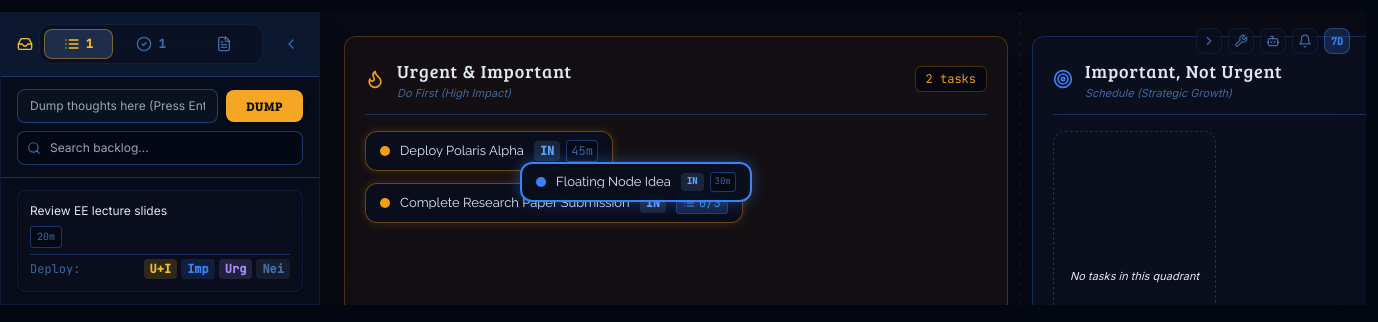
Test case: MatrixCanvasView › Canvas focused next-action pill rendering and Details Drawer actions › expanding a parent task with multiple subtasks renders ONLY 1 active child pill and the queued count button on canvas
Expected: the heading "Complete Research Paper Submission" is shown, [400, 196, 630, 209]
# Find expand button for this parent task
Click the button titled "Toggle Subtasks" at [702, 202], box [676, 192, 728, 214]
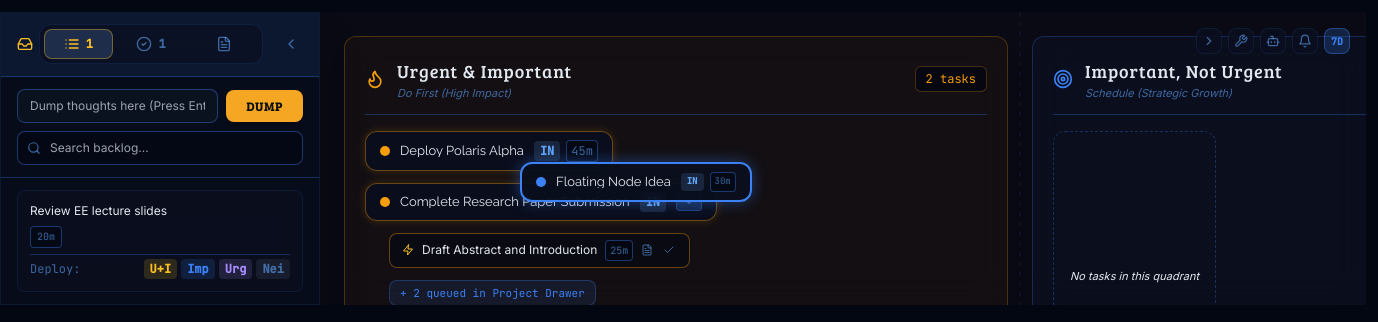
Expected: the heading "Draft Abstract and Introduction" is shown, [422, 241, 597, 259]
Expected: the text "+ 2 queued in Project Drawer" is shown, [400, 284, 585, 301]
